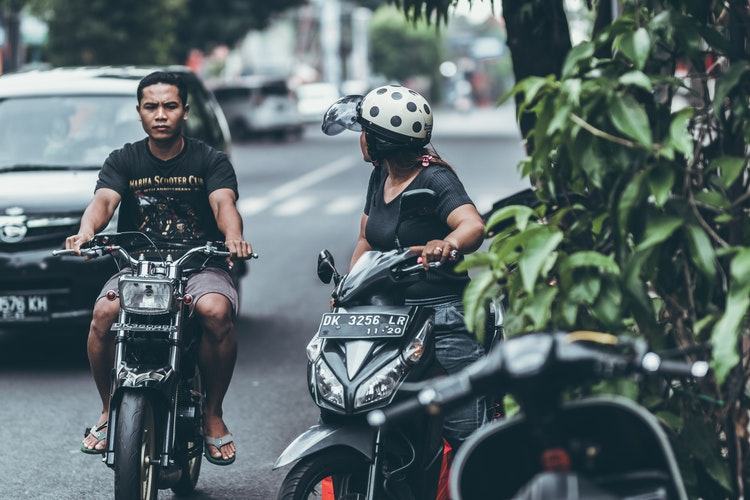helmet: (352, 78, 439, 153)
